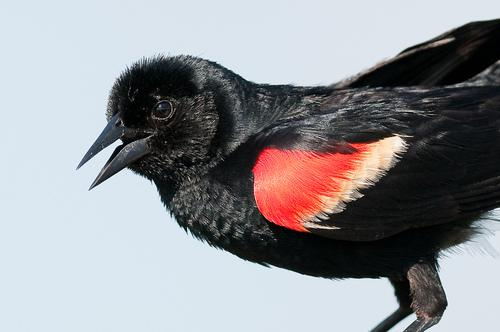010.Red_winged_Blackbird: (75, 19, 495, 332)
